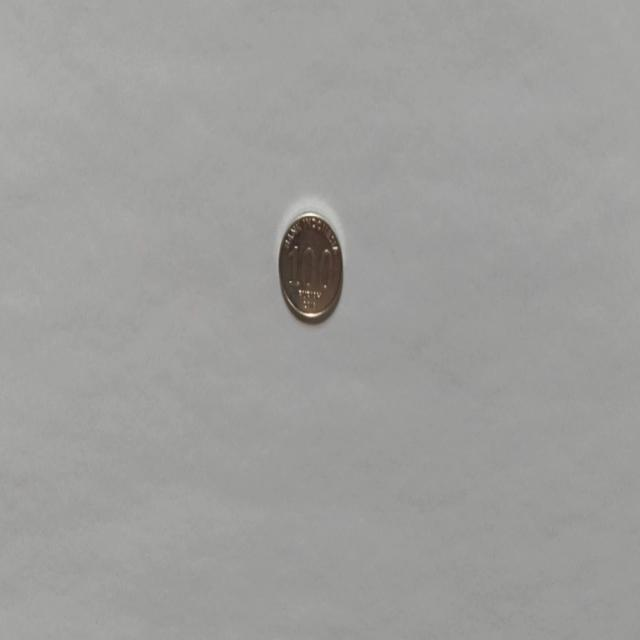seratus rupiah: (276, 208, 344, 324)
